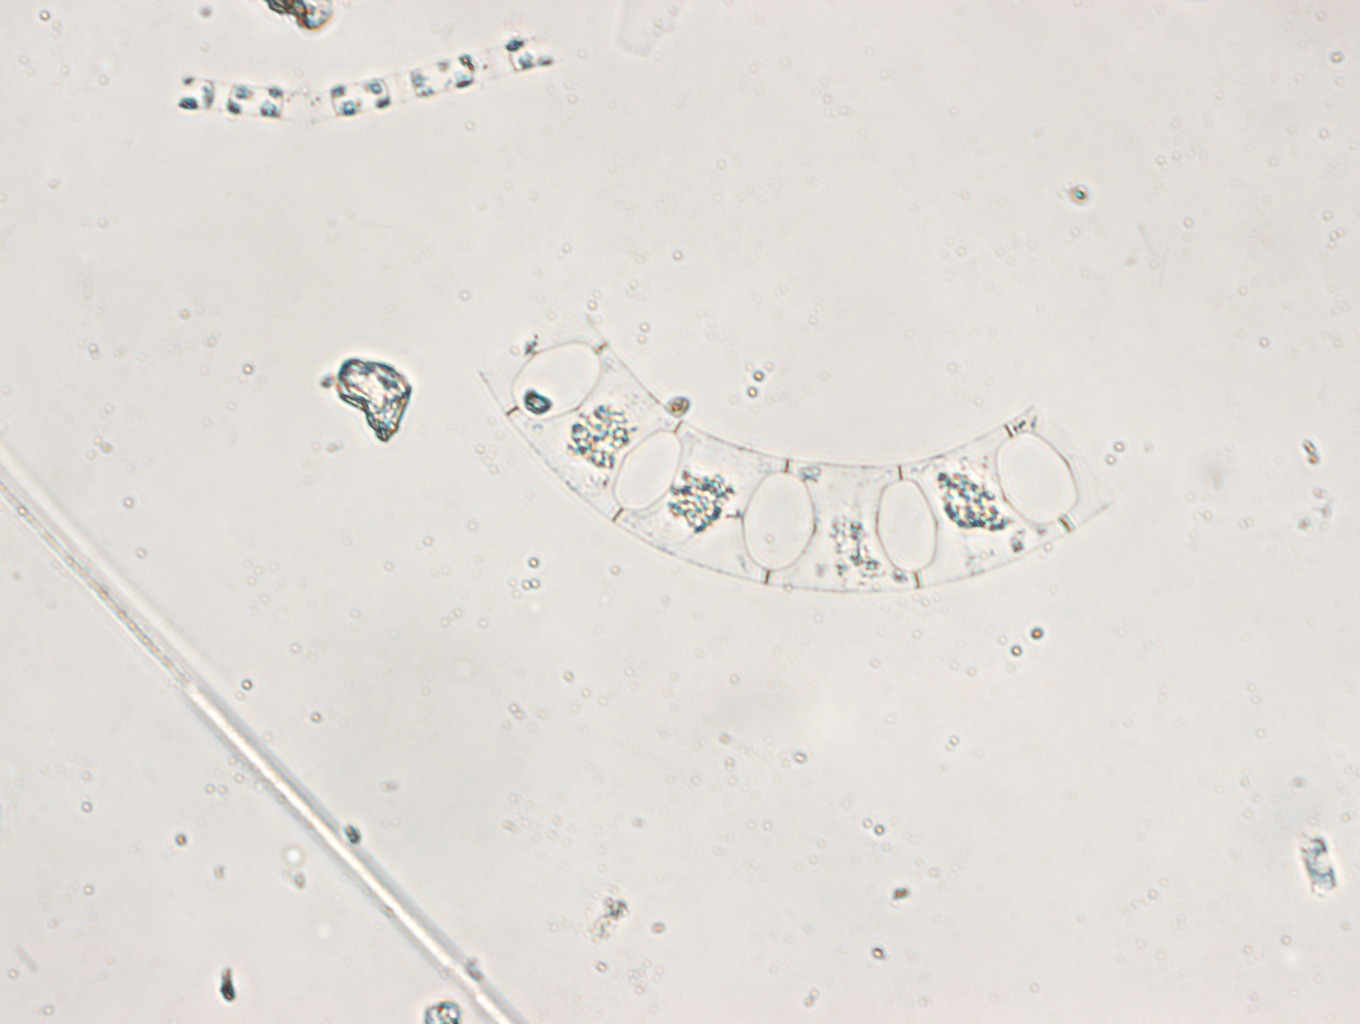eucampia: (479, 307, 1128, 597)
skeletonema: (174, 35, 552, 125)
